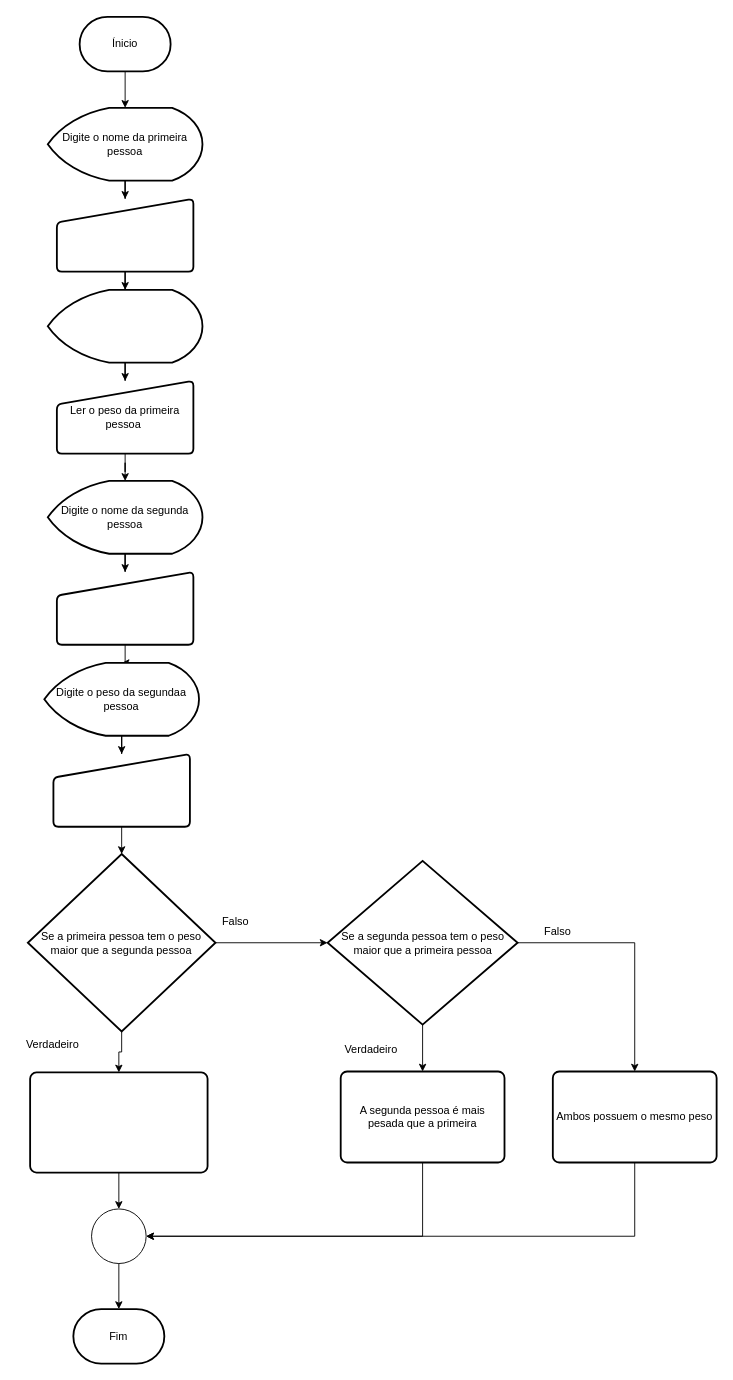
Image size: 733x1380. Some labels were removed from this diagram. The centre of each missing label's shape, as x and y in pixels:
"A primeira pessoa é mais pesada que a segunda pessoa" goes at point 118,1122.
"Digite o peso da primeira pessoa" goes at point 124,325.
"Ler o nome da primeira pessoa" goes at point 125,234.
"Ler o nome da segundaa pessoa" goes at point 125,608.
"Ler o peso da segundaa pessoa" goes at point 121,790.
